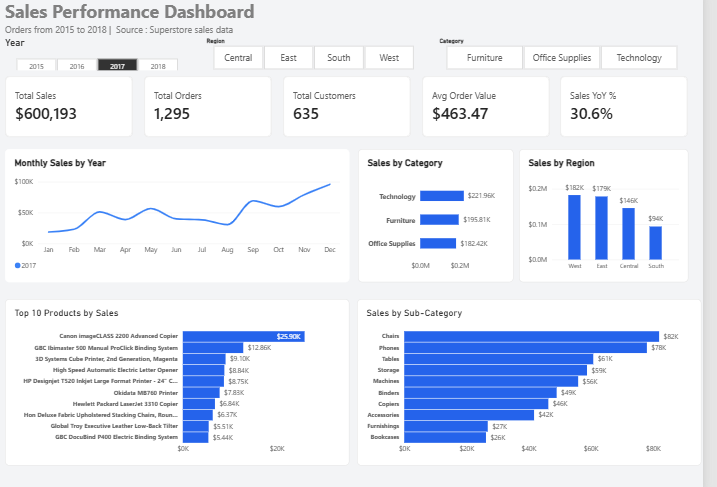

The page's visual inventory and layout, read from the dashboard file:
{"tool":"powerbi","page":{"name":"Sales Overview","canvas":[1280,900],"ordinal":0},"visuals":[{"type":"cardVisual","fields":{"Data":["sales analysis dashboard.Total Sales Card"]},"box":[25,150,230,110],"z":0},{"type":"cardVisual","fields":{"Data":["sales analysis dashboard.Total Orders Card"]},"box":[275,150,230,110],"z":1000},{"type":"cardVisual","fields":{"Data":["sales analysis dashboard.Sales YoY % Card"]},"box":[1025,150,230,110],"z":2000},{"type":"cardVisual","fields":{"Data":["sales analysis dashboard.Total Customers"]},"box":[525,150,230,110],"z":3000},{"type":"cardVisual","fields":{"Data":["sales analysis dashboard.Avg Order Value"]},"box":[775,150,230,110],"z":4000},{"type":"slicer","title":"Year","fields":{"Values":["Calendar.year"]},"box":[25,80,330,60],"z":5000},{"type":"slicer","fields":{"Values":["sales analysis dashboard.Region"]},"box":[380,80,400,60],"z":6000},{"type":"slicer","fields":{"Values":["sales analysis dashboard.Category"]},"box":[800,80,455,60],"z":7000},{"type":"lineChart","title":"Monthly Sales by Year","fields":{"Category":["Calendar.Month"],"Series":["Calendar.year"],"Y":["sales analysis dashboard.Total Sales"]},"box":[25,280,620,240],"z":8000},{"type":"clusteredBarChart","title":"Sales by Category","fields":{"Category":["sales analysis dashboard.Category"],"Y":["sales analysis dashboard.Total Sales"]},"box":[660,280,280,240],"z":9000},{"type":"clusteredColumnChart","title":"Sales by Region","fields":{"Category":["sales analysis dashboard.Region"],"Y":["sales analysis dashboard.Total Sales"]},"box":[950,280,305,240],"z":10000},{"type":"clusteredBarChart","title":"Top 10 Products by Sales","fields":{"Category":["sales analysis dashboard.Product Name"],"Y":["sales analysis dashboard.Total Sales"]},"box":[25,550,620,300],"z":11000},{"type":"textbox","box":[25,10,620,50],"z":12000},{"type":"textbox","box":[25,55,700,25],"z":13000},{"type":"clusteredBarChart","title":"Sales by Sub-Category","fields":{"Category":["sales analysis dashboard.Sub-Category"],"Y":["sales analysis dashboard.Total Sales"]},"box":[658.8,550,620,300],"z":14000}]}

Visuals, with their boxes on the page's 1280x900 design canvas (x1, y1, x2, y2). These are canvas units, not pixel positions in the 717x487 screenshot, which may show the page scaled, cropped or inside an application window:
cardVisual - sales analysis dashboard.Total Sales Card: 25, 150, 255, 260
cardVisual - sales analysis dashboard.Total Orders Card: 275, 150, 505, 260
cardVisual - sales analysis dashboard.Sales YoY % Card: 1025, 150, 1255, 260
cardVisual - sales analysis dashboard.Total Customers: 525, 150, 755, 260
cardVisual - sales analysis dashboard.Avg Order Value: 775, 150, 1005, 260
"Year" slicer: 25, 80, 355, 140
slicer - sales analysis dashboard.Region: 380, 80, 780, 140
slicer - sales analysis dashboard.Category: 800, 80, 1255, 140
"Monthly Sales by Year" lineChart: 25, 280, 645, 520
"Sales by Category" clusteredBarChart: 660, 280, 940, 520
"Sales by Region" clusteredColumnChart: 950, 280, 1255, 520
"Top 10 Products by Sales" clusteredBarChart: 25, 550, 645, 850
textbox: 25, 10, 645, 60
textbox: 25, 55, 725, 80
"Sales by Sub-Category" clusteredBarChart: 659, 550, 1279, 850
